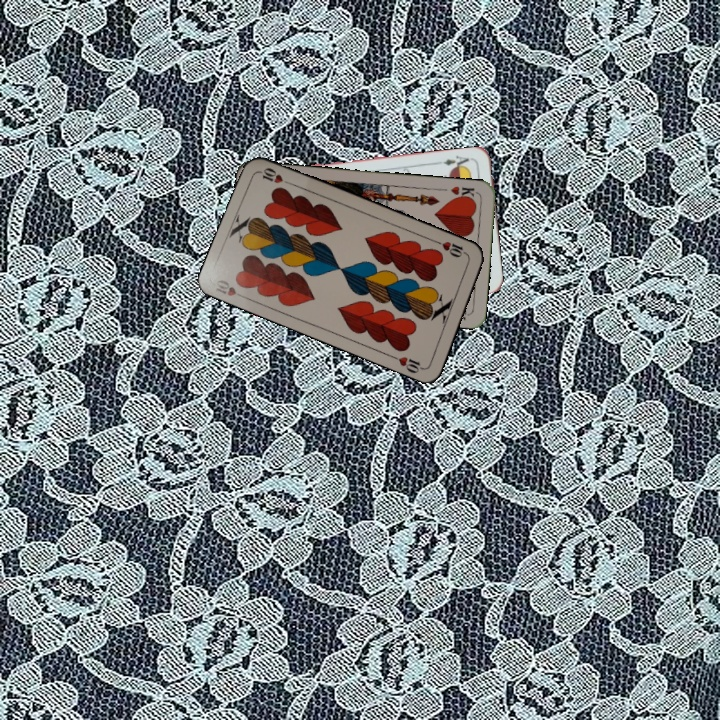EA: (440, 151, 475, 172)
H10: (211, 275, 250, 302), (432, 237, 471, 260)
HK: (447, 182, 480, 203)
